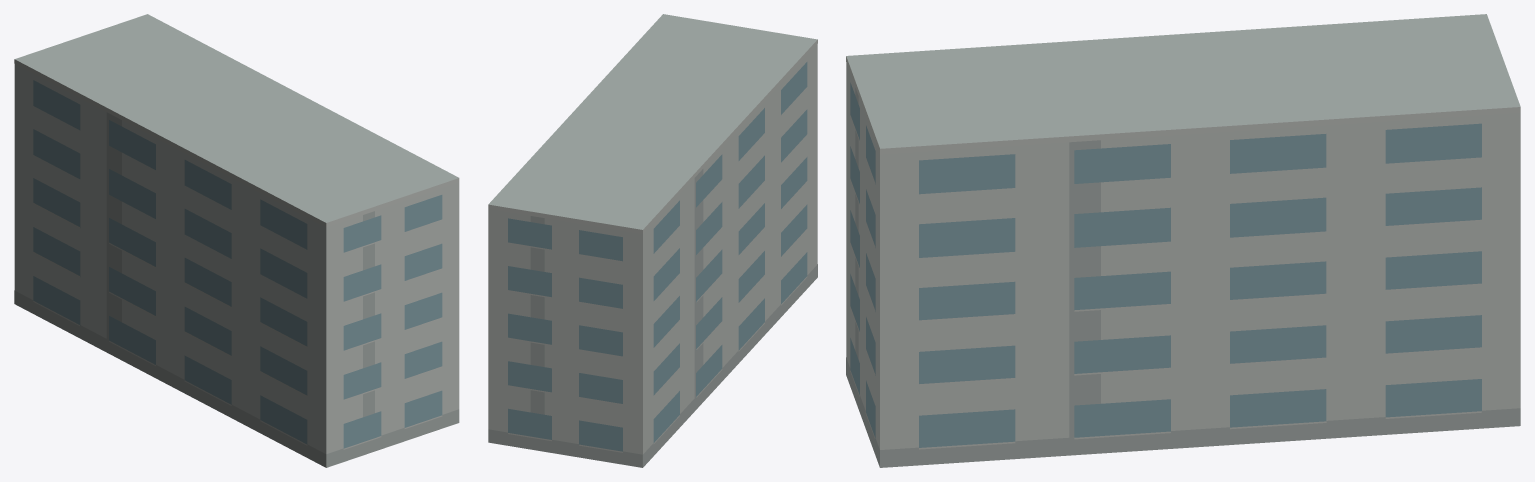
The model's file is survey-upis-32927714.glb.
The picture shows the model from 3 angles, left to right: view 1: azimuth 30°, elevation 25°; view 2: azimuth 150°, elevation 25°; view 3: azimuth 270°, elevation 25°; orthographic projection. The views are drawn at different scales.
Visible parts, largest first — view 1: survey-upis-32927714.tmp; view 2: survey-upis-32927714.tmp; view 3: survey-upis-32927714.tmp.
Boxes of the visible parts, bbox=[...] form: survey-upis-32927714.tmp: bbox=[14, 14, 459, 467]; survey-upis-32927714.tmp: bbox=[488, 14, 817, 467]; survey-upis-32927714.tmp: bbox=[846, 14, 1520, 467].
Size of the model in its own units: 12.06 by 13.3 by 25.49.
